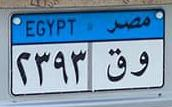2: (15, 50, 32, 85)
3: (32, 49, 52, 87), (71, 48, 87, 85)
9: (53, 50, 69, 86)
qaaf: (104, 47, 128, 84)
waw: (131, 48, 150, 79)
